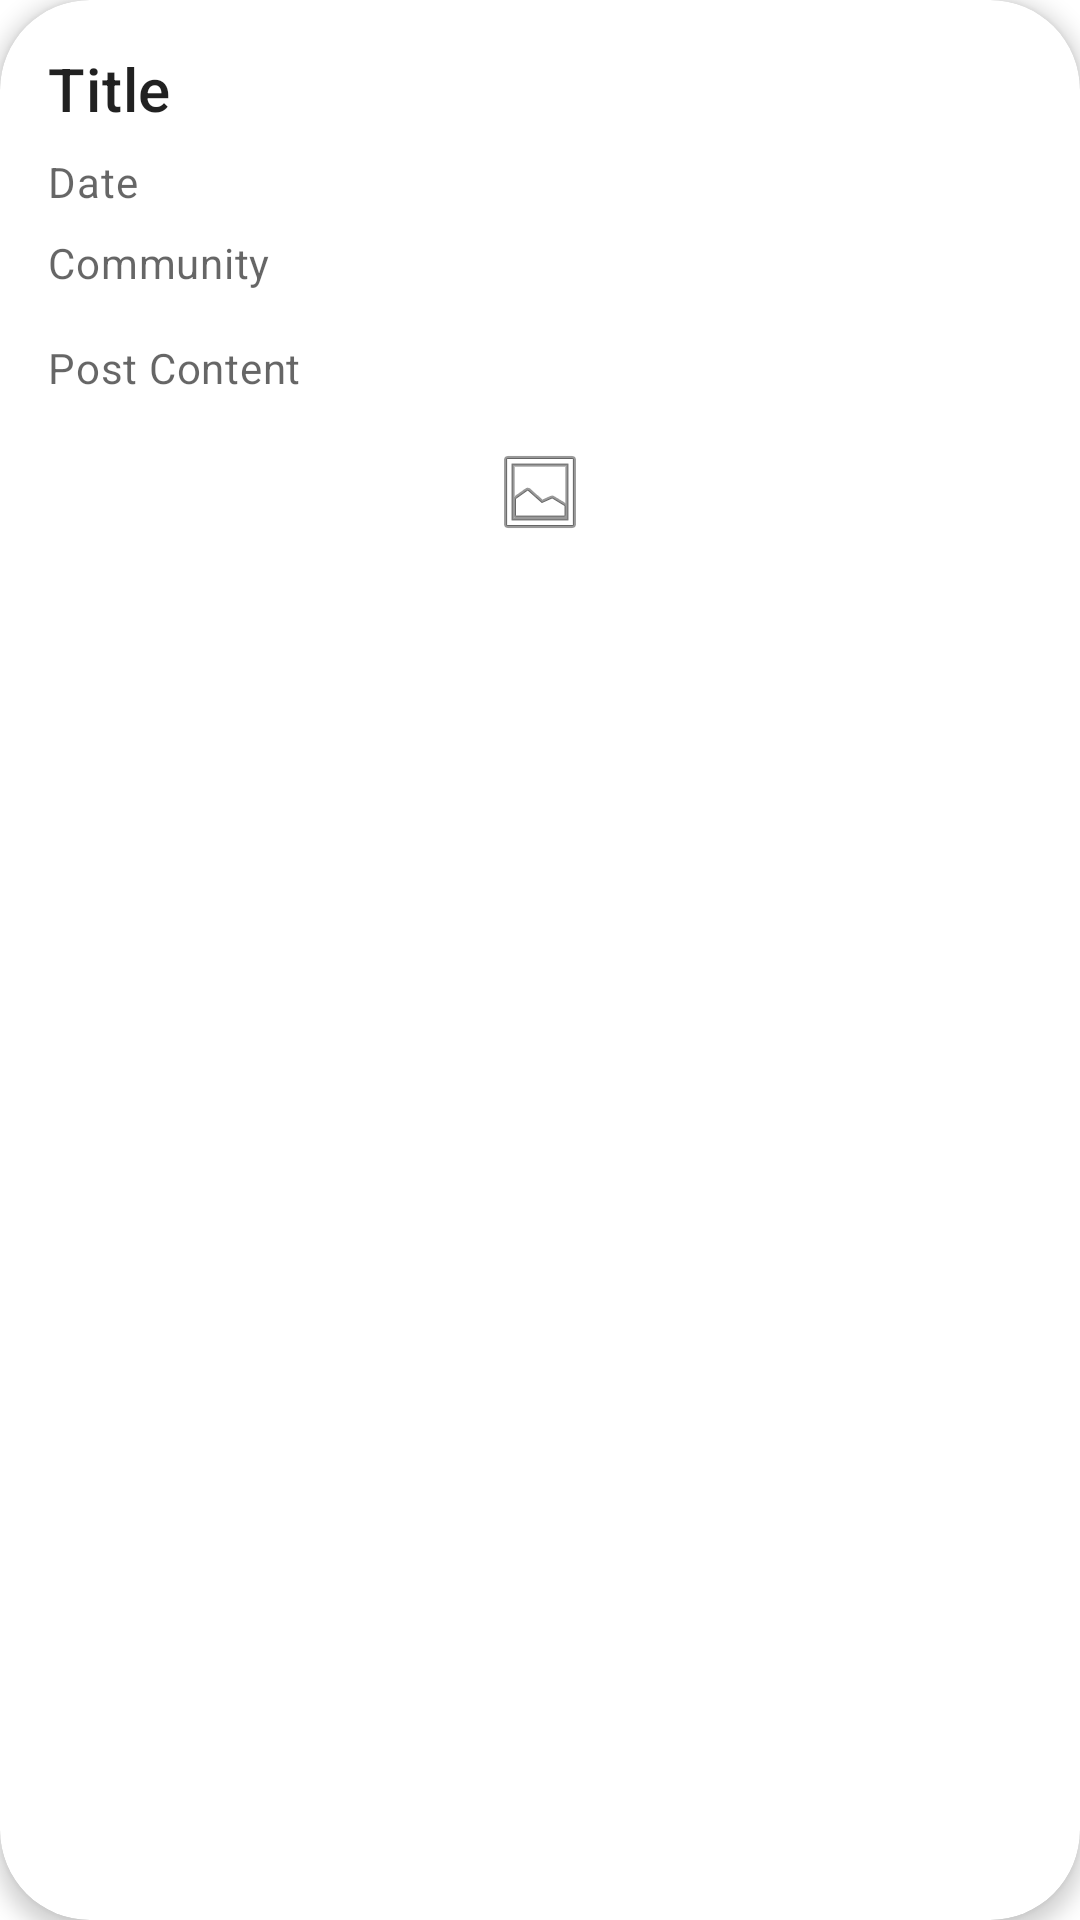

Icon bounding boxes for this 1080x1920 phone screenshot, format (x1, y1, x2, y2):
gallery: (504, 456, 576, 528)
